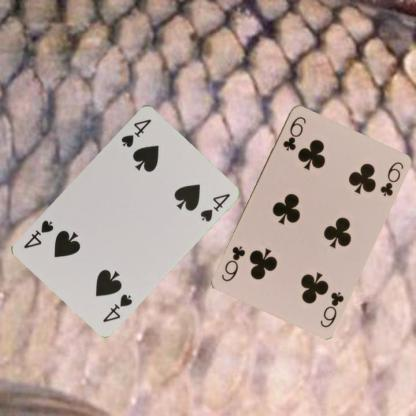4s: (118, 116, 152, 149), (100, 291, 133, 323)
6c: (317, 288, 345, 329), (280, 113, 307, 152)
